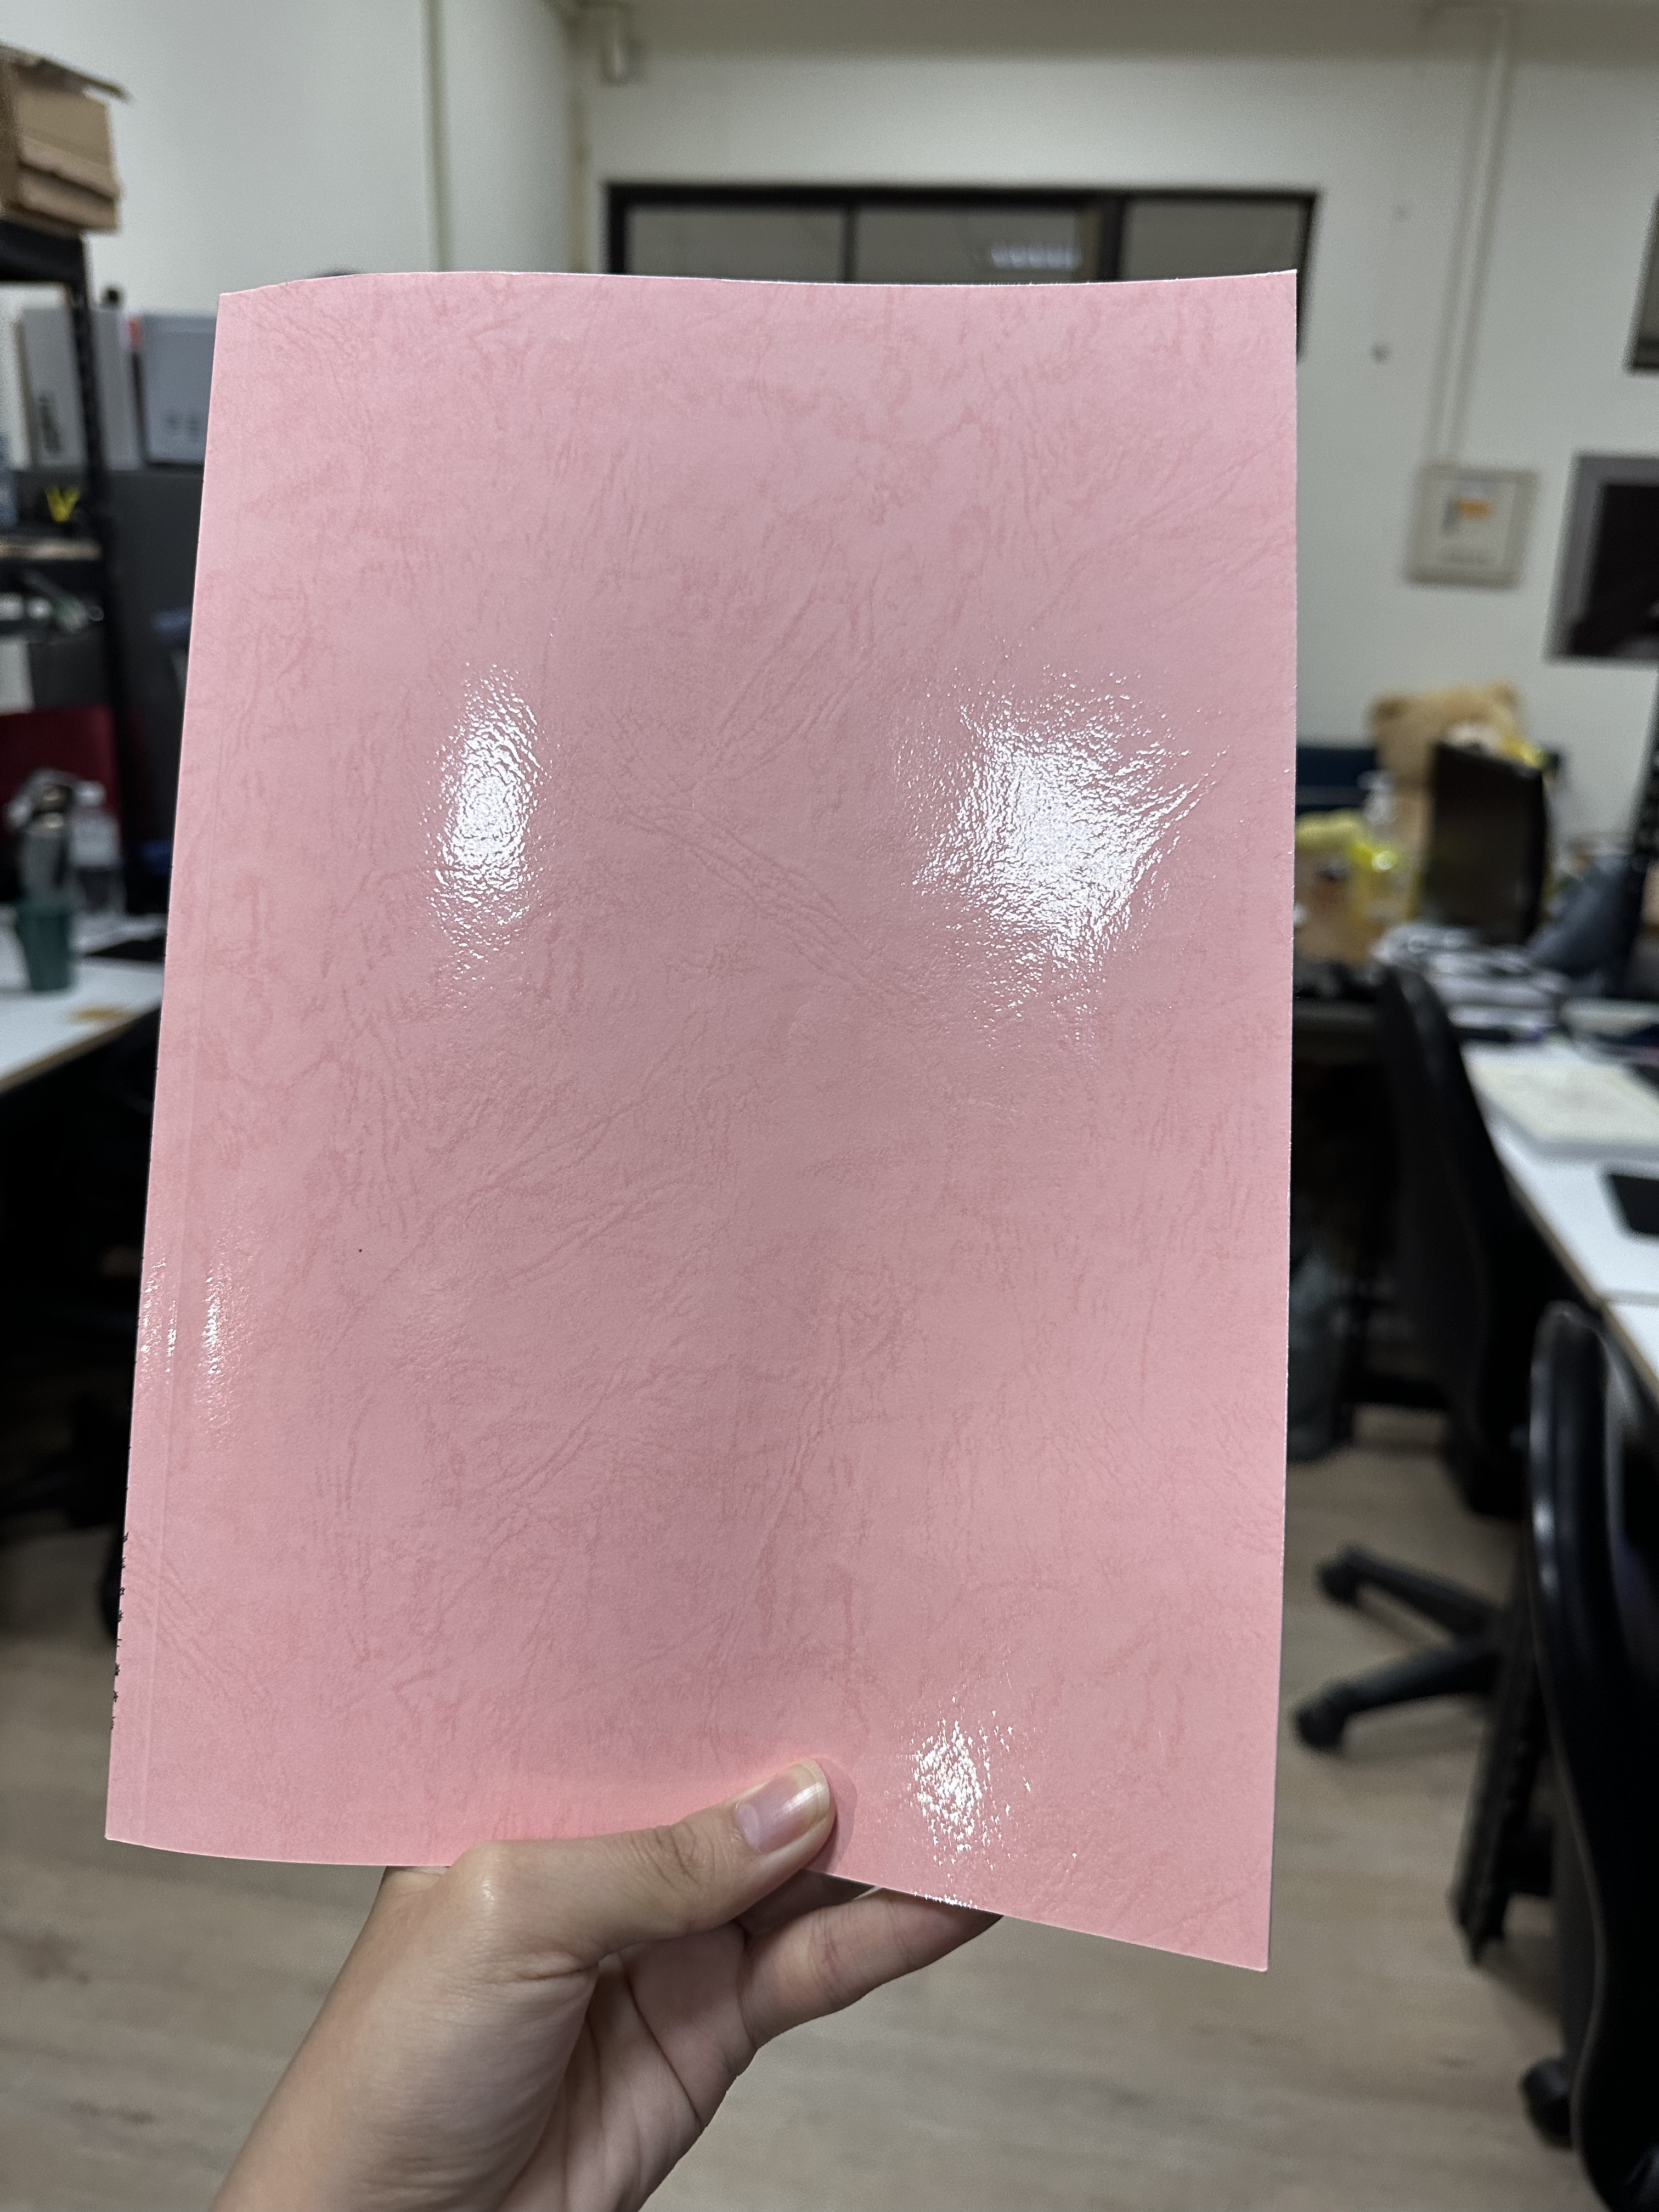book: (105, 260, 1300, 1980)
